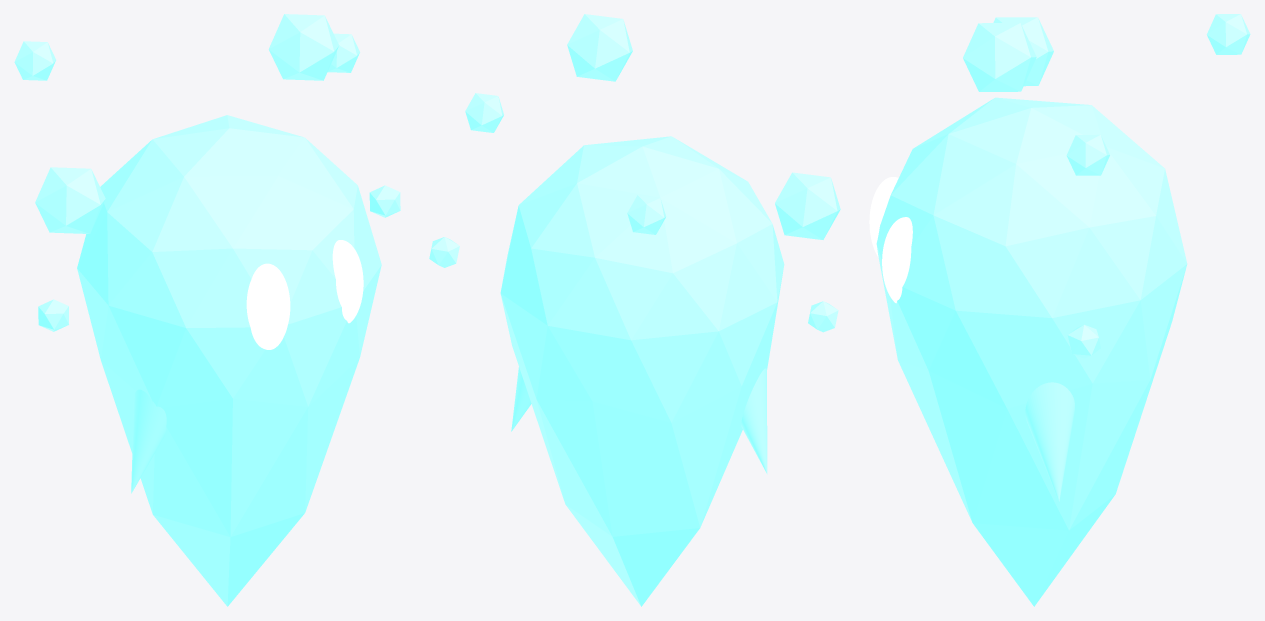
Rendered from Forma_Cristal.glb.
The picture shows the model from 3 angles, left to right: view 1: azimuth 30°, elevation 25°; view 2: azimuth 150°, elevation 25°; view 3: azimuth 270°, elevation 25°; orthographic projection. The views are drawn at different scales.
Visible parts, largest first — view 1: Icosphere.001, Icosphere.002, Icosphere, Cone; view 2: Icosphere.001, Icosphere.002, Cone; view 3: Icosphere.001, Icosphere.002, Cone, Icosphere.
Part boxes in pixels (x1,y1,x2,y2): Icosphere.001: (77,115,381,606); Icosphere.002: (14,14,400,331); Icosphere: (246,240,363,349); Cone: (131,389,166,493); Icosphere.001: (500,136,784,606); Icosphere.002: (429,14,840,332); Cone: (511,367,767,473); Icosphere.001: (876,97,1187,606); Icosphere.002: (963,14,1250,358); Cone: (1025,382,1074,501); Icosphere: (869,177,912,303).
Bounding box in the file's own units: 1.82 × 2.58 × 1.46.
